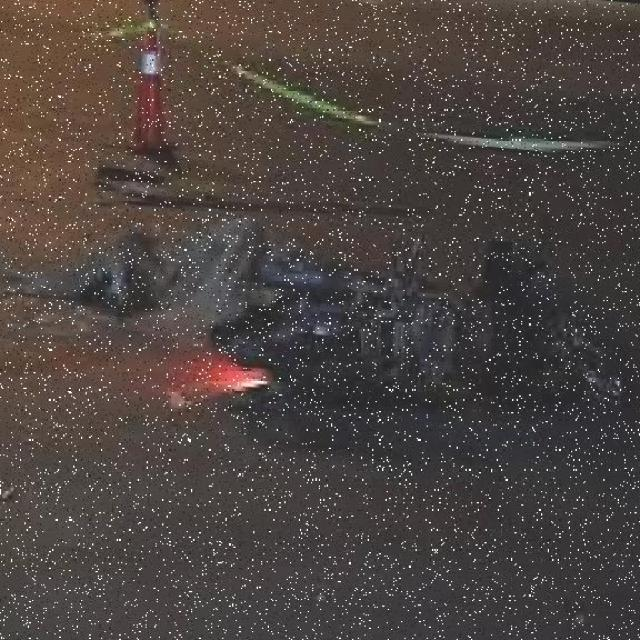accident: (184, 182, 640, 483)
